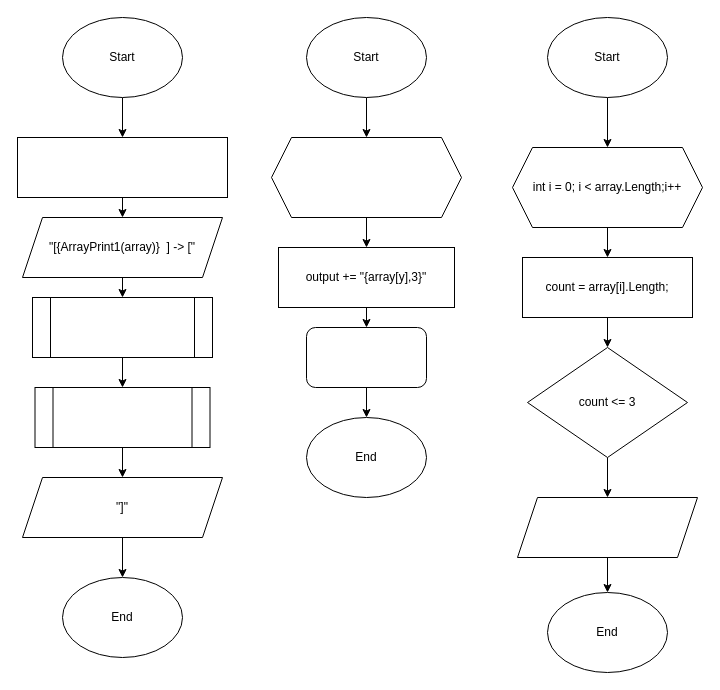
This 720x690 diagram has some shape labels left out. Here are the shapes that lost their labels. From the top down, the box of each, then its label:
(16, 136, 228, 198): array = [ Hello, dog, :), 13456, Word]
(270, 136, 462, 218): int y = 0; y < array.Length;y++
(32, 296, 212, 358): ArrayPrint1(array)
(306, 326, 426, 388): output
(34, 386, 210, 448): Extraction(array2, array)
(516, 496, 698, 558): "{array[i],3}"
